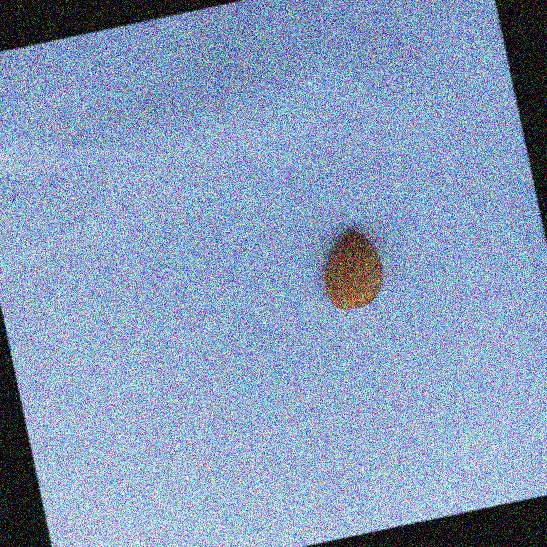grade2: (309, 223, 393, 317)
